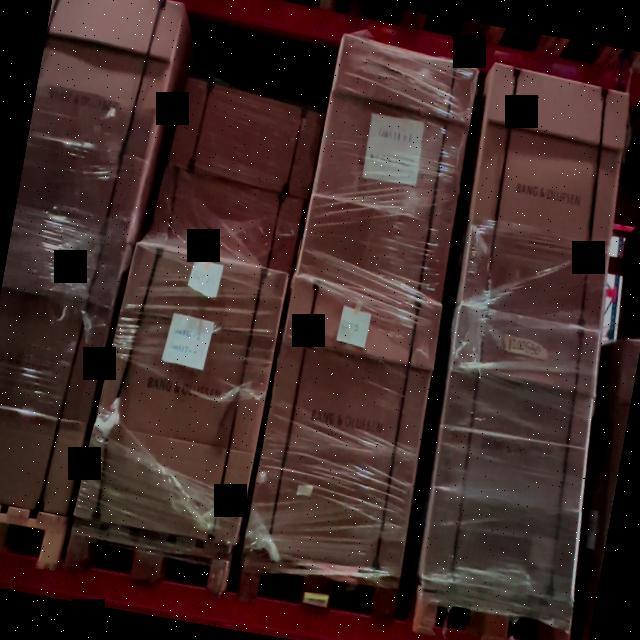box: (82, 241, 286, 541), (416, 306, 614, 598), (247, 276, 445, 566), (298, 38, 482, 300), (456, 66, 635, 326), (14, 0, 185, 233), (0, 211, 125, 516), (159, 72, 328, 200), (147, 164, 306, 273)
